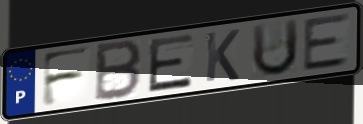B: (92, 38, 144, 104)
E: (300, 11, 352, 74), (146, 32, 196, 95)
F: (40, 45, 93, 110)
K: (204, 27, 242, 84)
U: (250, 16, 301, 79)
